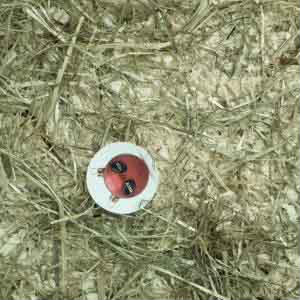badge: (84, 141, 158, 217)
